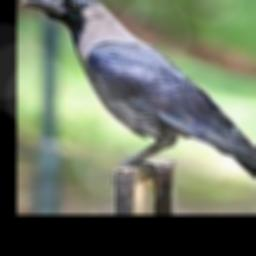Crow: (19, 0, 256, 211)
